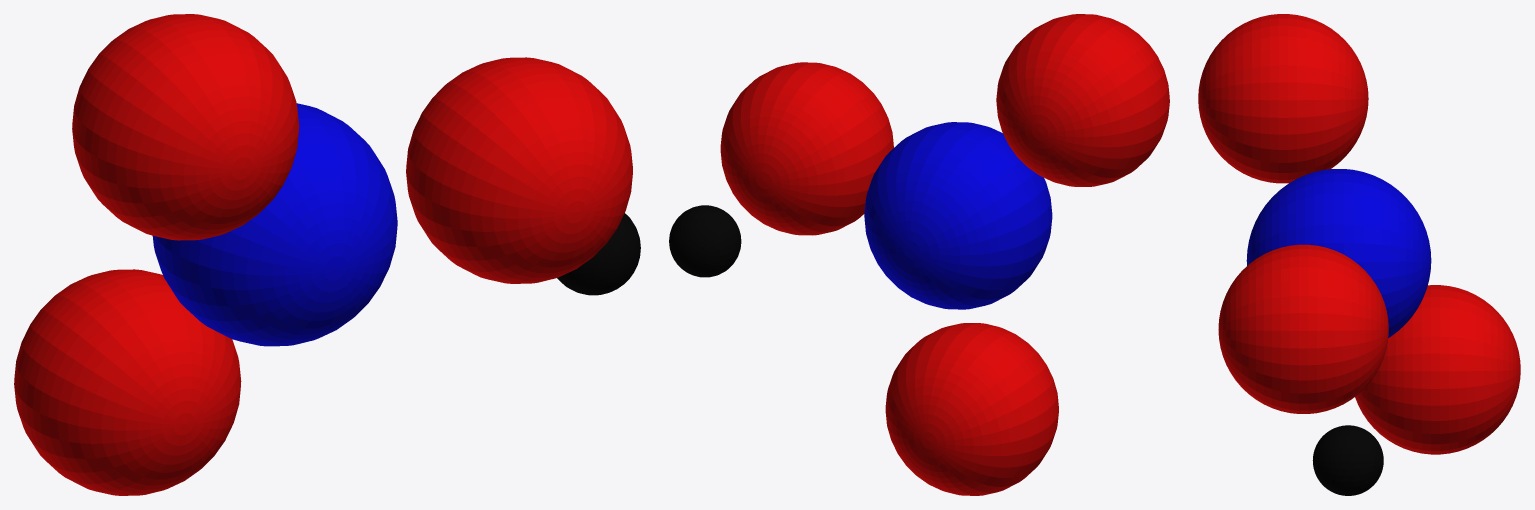
The model's file is Nitric Acid.glb.
3 views of the same model, side by side, from view 1: azimuth 30°, elevation 25°; view 2: azimuth 150°, elevation 25°; view 3: azimuth 270°, elevation 25° (orthographic). The views are drawn at different scales.
Visible parts, largest first — view 1: world; view 2: world; view 3: world.
Part boxes in pixels (x1,y1,x2,y2): world: (14,14,640,495); world: (669,14,1169,495); world: (1198,14,1520,495).
Size of the model in its own units: 3.6 by 3.17 by 2.27.
